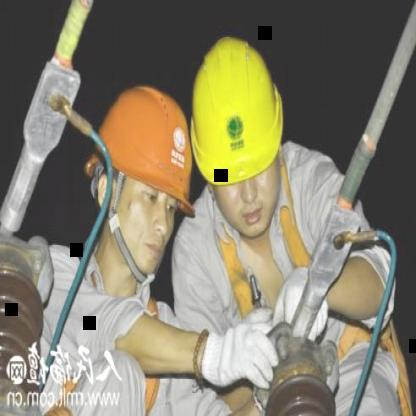helmet: (184, 20, 290, 244), (86, 74, 195, 277)
